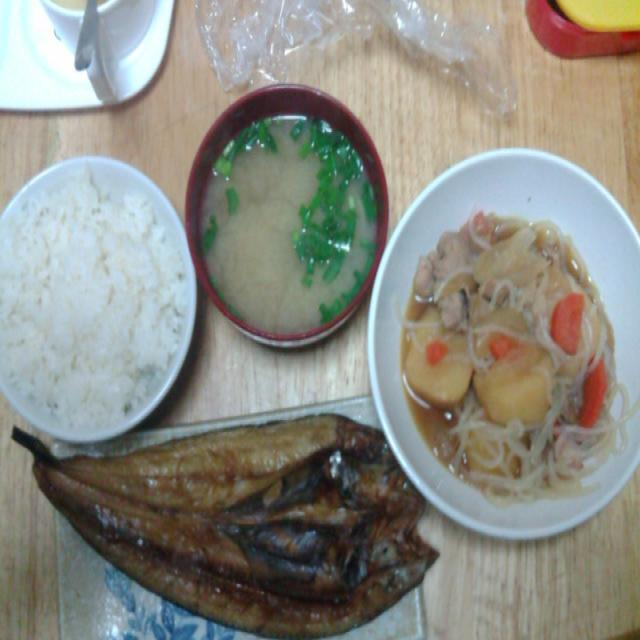Rice: (2, 174, 190, 424)
